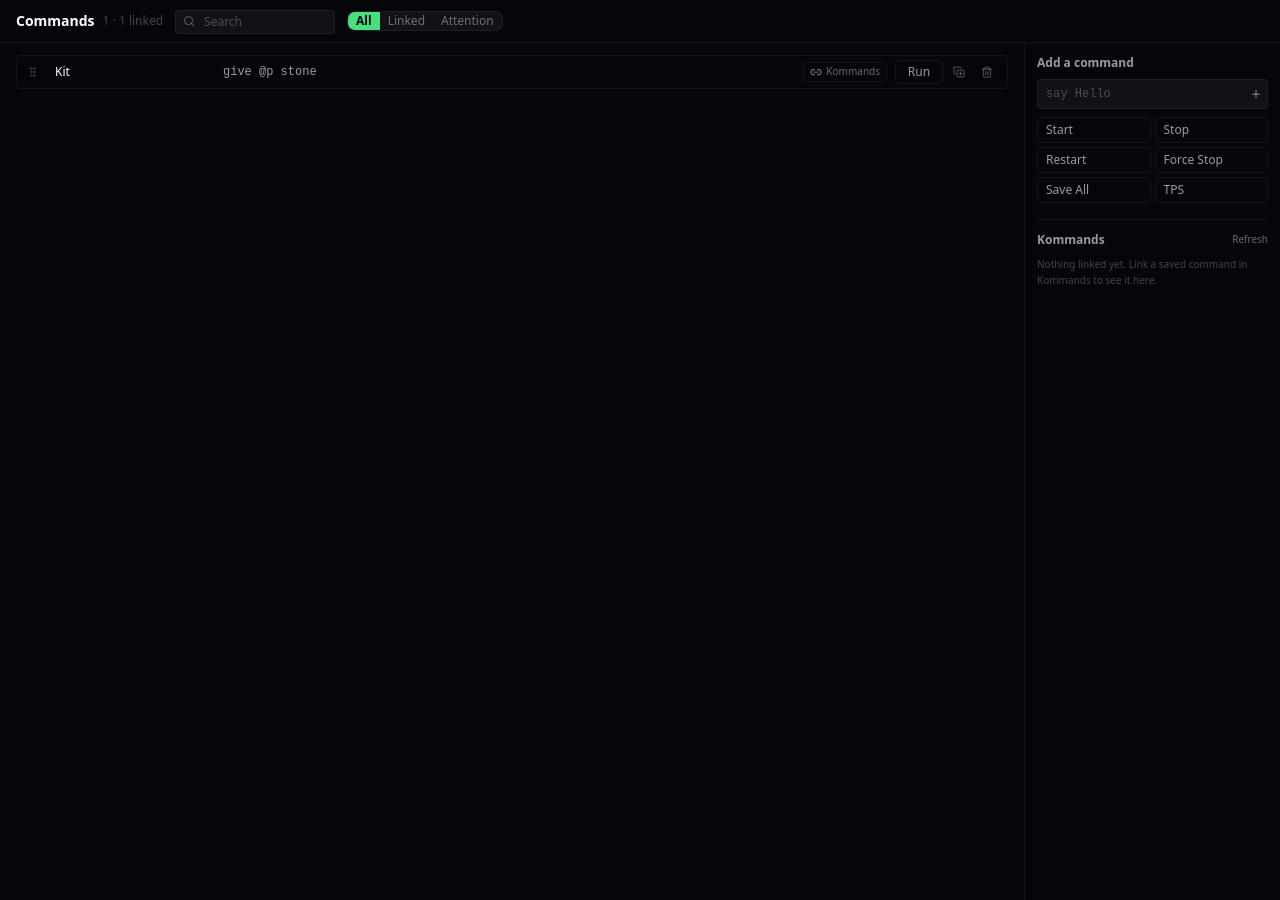
Scenario: CommandLibrary link states › shows a linked command as text and offers a copy instead of an edit
expect the text "Commands" is shown: met, box [16, 11, 95, 31]
expect the button named "Delete Kit" is shown: met, box [975, 60, 999, 84]
What coordinates should you click on to do the following:
click the button named "Make a copy of Kit"
I would click on:
 (959, 72)
Its box is [947, 60, 971, 84].
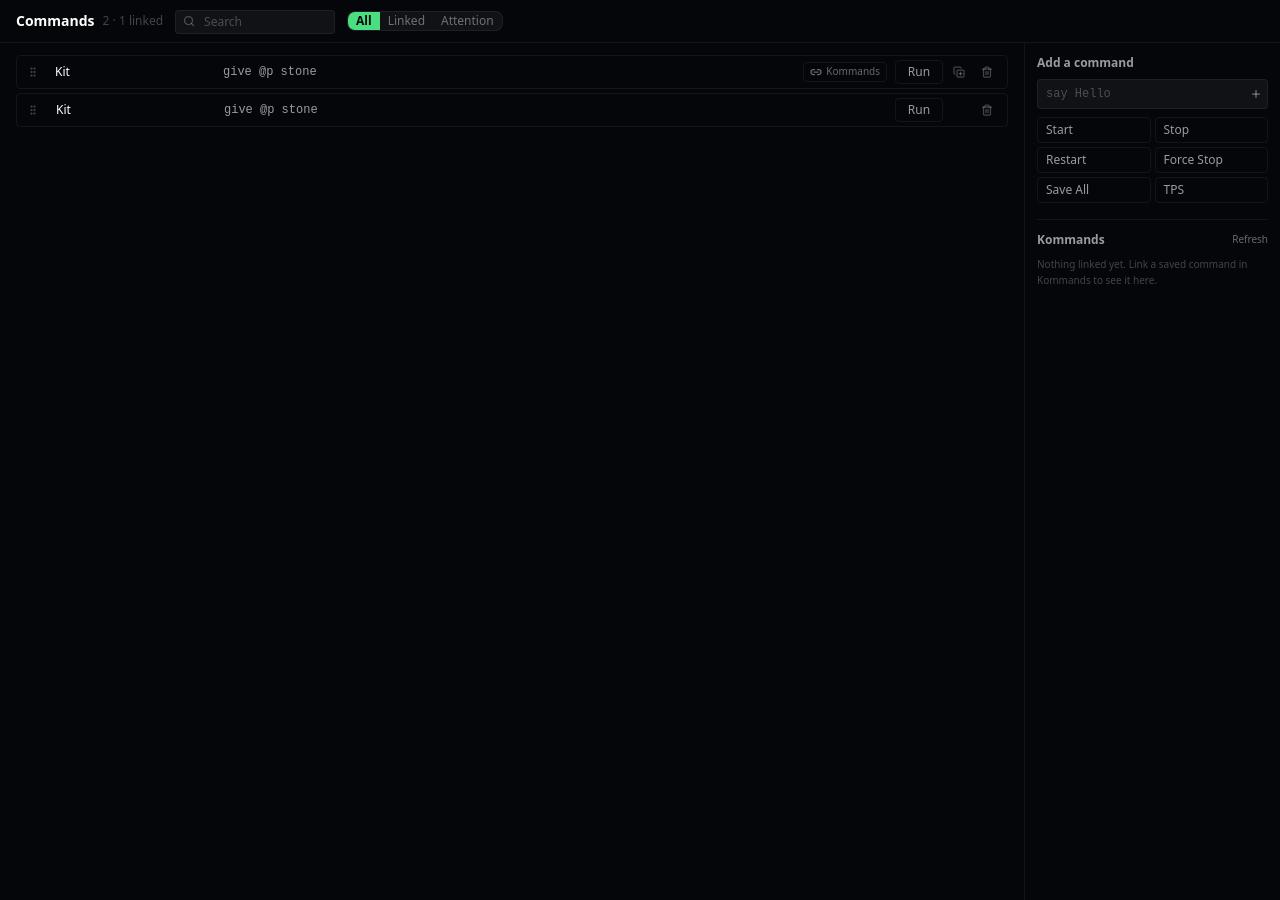
expect the field named "Command for Kit" is shown: met, box [217, 98, 887, 122]
